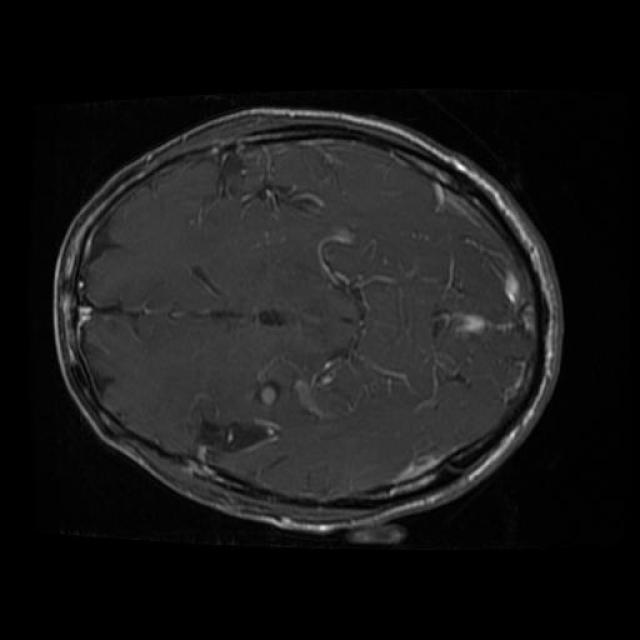Glioma: (195, 356, 291, 458)
